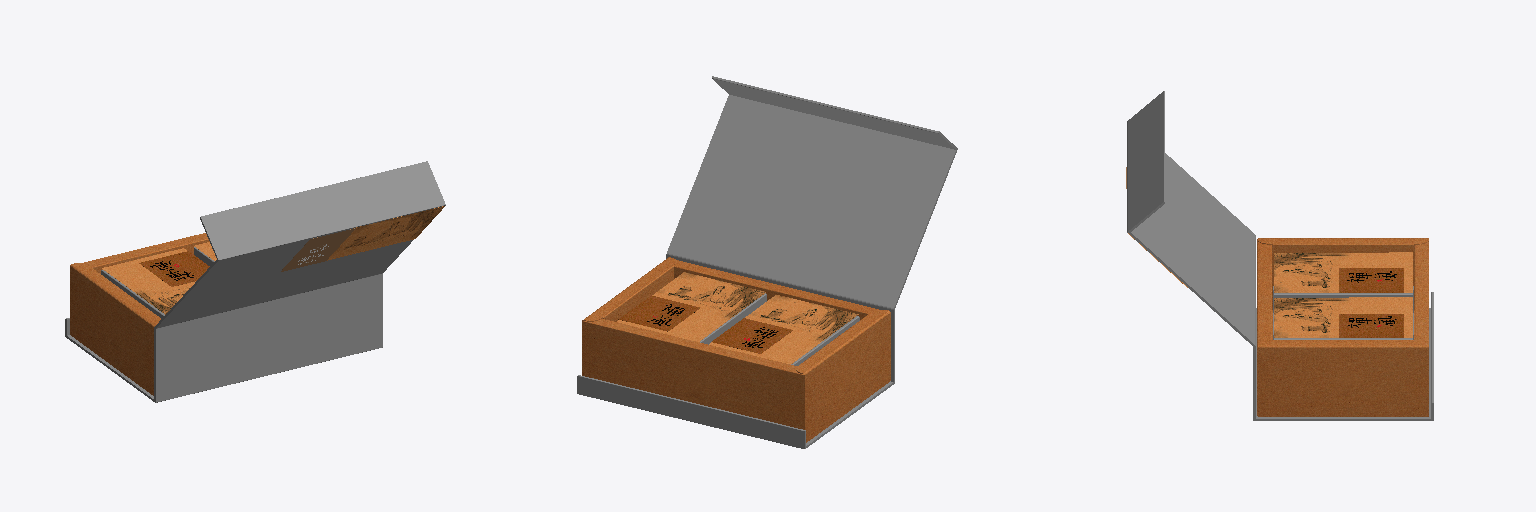
The picture shows the model from 3 angles: view 1: azimuth 30°, elevation 25°; view 2: azimuth 150°, elevation 25°; view 3: azimuth 270°, elevation 25°; orthographic projection.
Parts seen in each view (by area): view 1: Obj_000010, Obj_000001, Box007, Box006, Box002, Obj_000003, Box004; view 2: Obj_000009, Obj_000003, Obj_000010, Obj_000001, Box006, Box003, Obj_000002, Box001, Box002, Box005, Obj_000008; view 3: Obj_000002, Obj_000009, Obj_000010, Box006, Obj_000003, Box005, Obj_000001, Box002, Box001, Box003, Obj_000006.
Boxes of the visible parts, x1,y1,x2,y2 form: Obj_000010: [65, 161, 445, 402]; Obj_000001: [70, 263, 160, 395]; Box007: [327, 206, 444, 260]; Box006: [102, 248, 195, 314]; Box002: [139, 251, 209, 286]; Obj_000003: [82, 233, 209, 273]; Box004: [281, 228, 355, 271]; Obj_000009: [671, 81, 951, 310]; Obj_000003: [583, 260, 878, 429]; Obj_000010: [577, 76, 957, 448]; Obj_000001: [796, 310, 890, 442]; Box006: [709, 295, 858, 364]; Box003: [618, 272, 765, 341]; Obj_000002: [582, 257, 675, 375]; Box001: [618, 295, 699, 331]; Box002: [712, 318, 792, 353]; Box005: [617, 272, 763, 341]; Obj_000008: [700, 293, 766, 344]; Obj_000002: [1258, 340, 1428, 416]; Obj_000009: [1132, 155, 1255, 342]; Obj_000010: [1127, 91, 1433, 420]; Box006: [1274, 252, 1412, 292]; Obj_000003: [1257, 239, 1428, 415]; Box005: [1274, 297, 1412, 337]; Obj_000001: [1258, 238, 1428, 285]; Box002: [1339, 268, 1403, 292]; Box001: [1339, 314, 1403, 337]; Box003: [1274, 297, 1412, 337]; Obj_000006: [1274, 293, 1412, 297].
Bounding box in the file's own units: 320 × 295 × 375.
Materials: 8 (5 with a texture image).